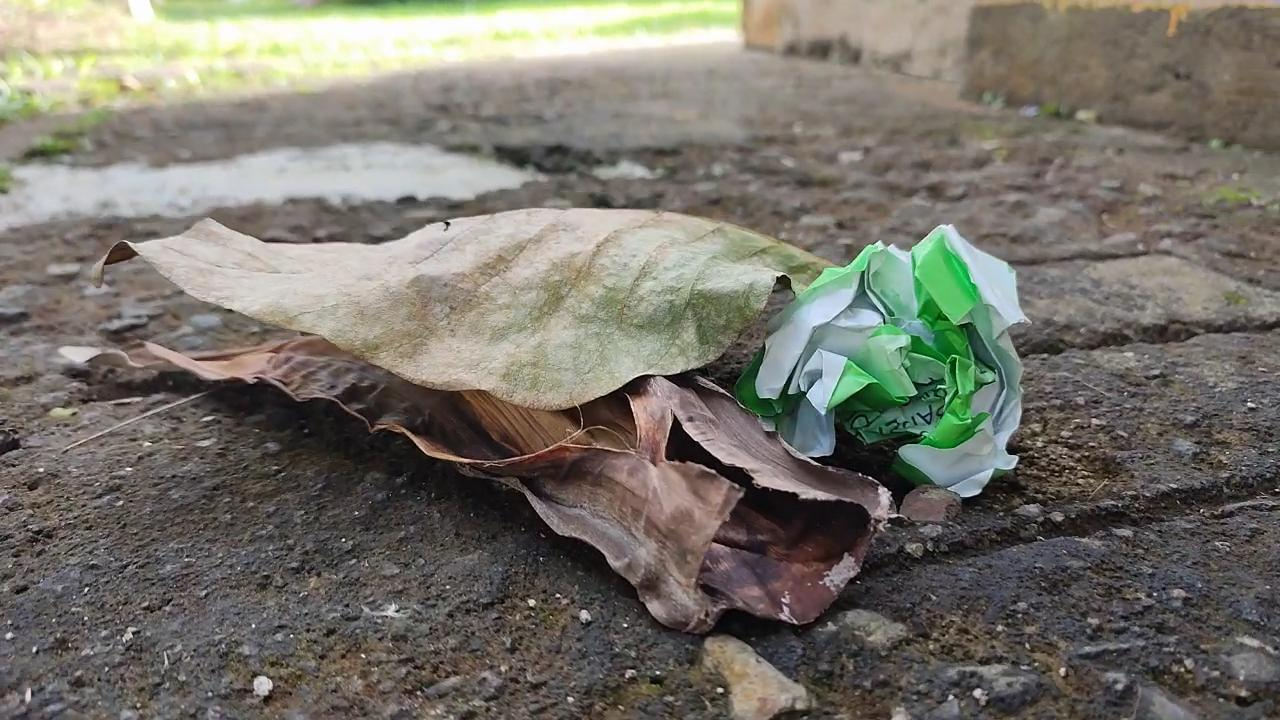Paper: (773, 215, 1034, 513)
